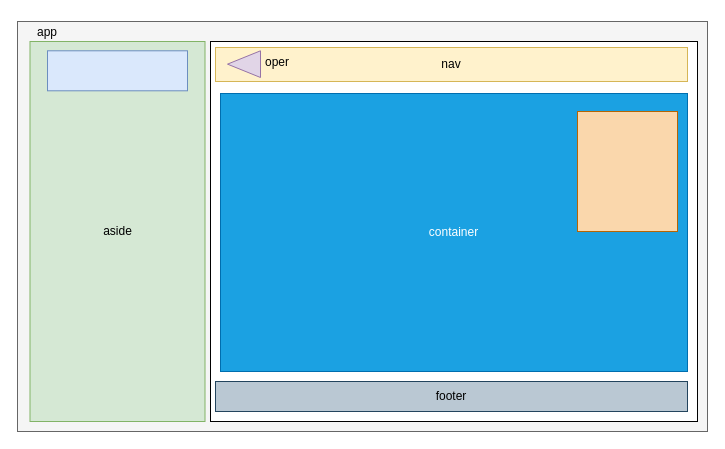
Image size: 725x449. Some labels were removed from this diagram. The centre of each missing label's shape, as x and y in pixels:
"title" belongs at point 117,70.
"toc" belongs at point 627,171.
